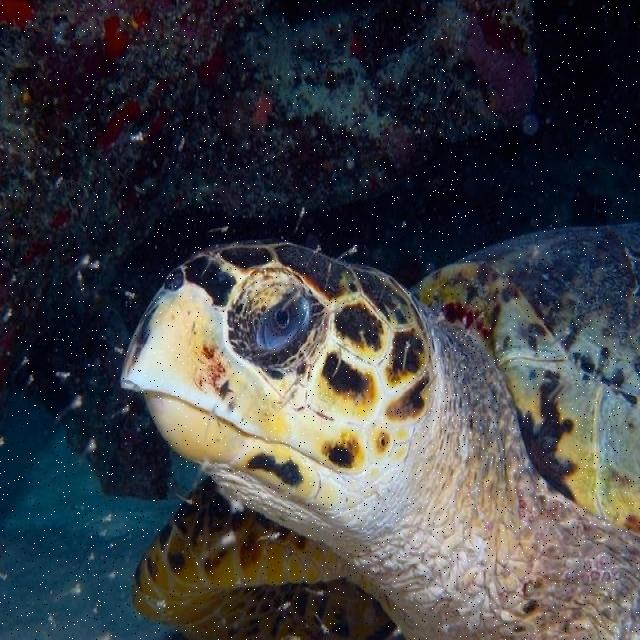fish: (123, 217, 639, 639)
sea-floor: (0, 0, 639, 498)
